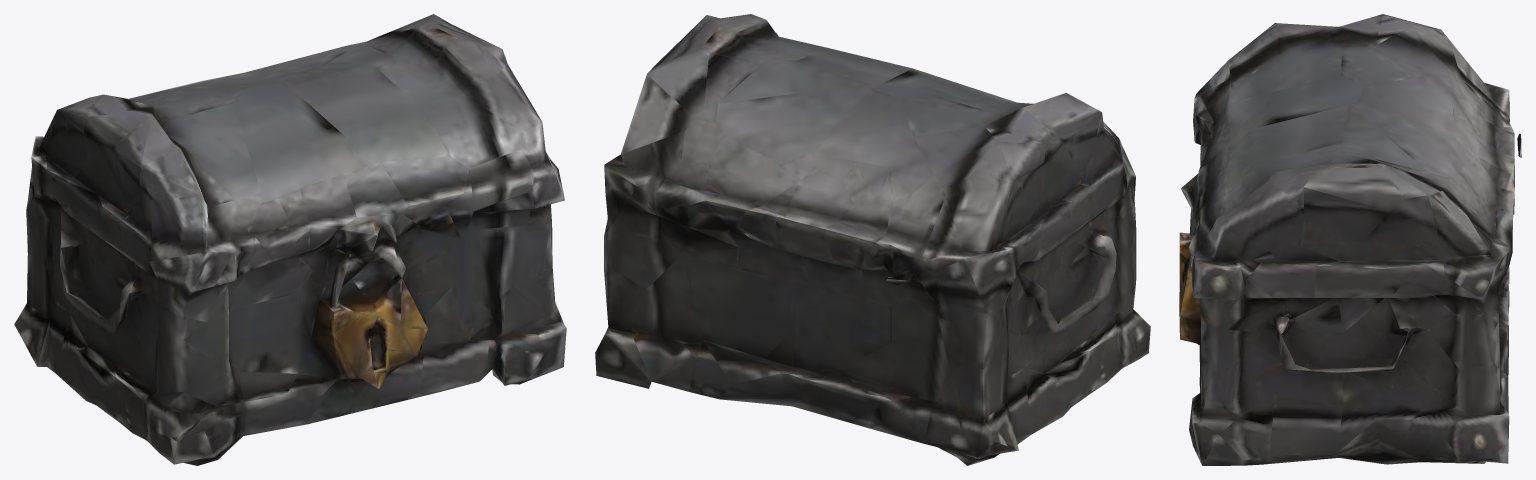
File: obj_chest_iron.glb
3 renders of one model, left to right at view 1: azimuth 30°, elevation 25°; view 2: azimuth 150°, elevation 25°; view 3: azimuth 270°, elevation 25°, orthographic. The views are drawn at different scales.
Parts seen in each view (by area): view 1: Iron chest; view 2: Iron chest; view 3: Iron chest.
Boxes of the visible parts, x1=… form: Iron chest: x1=14, y1=14, x2=566, y2=465; Iron chest: x1=595, y1=14, x2=1150, y2=465; Iron chest: x1=1179, y1=14, x2=1521, y2=465.
Bounding box in the file's own units: 2 × 1.39 × 1.48.
Materials: 1 (1 with a texture image).
